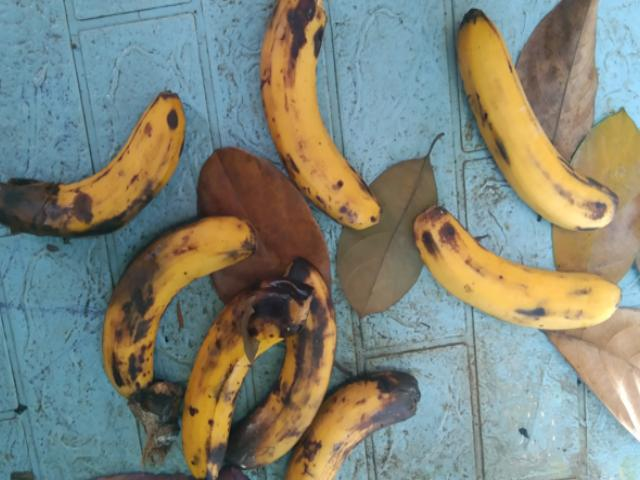overripe: (250, 0, 383, 243)
ripe: (411, 195, 635, 374), (456, 11, 614, 247)
rotten: (0, 58, 184, 245), (92, 194, 251, 403), (175, 262, 309, 479), (271, 353, 440, 479)
